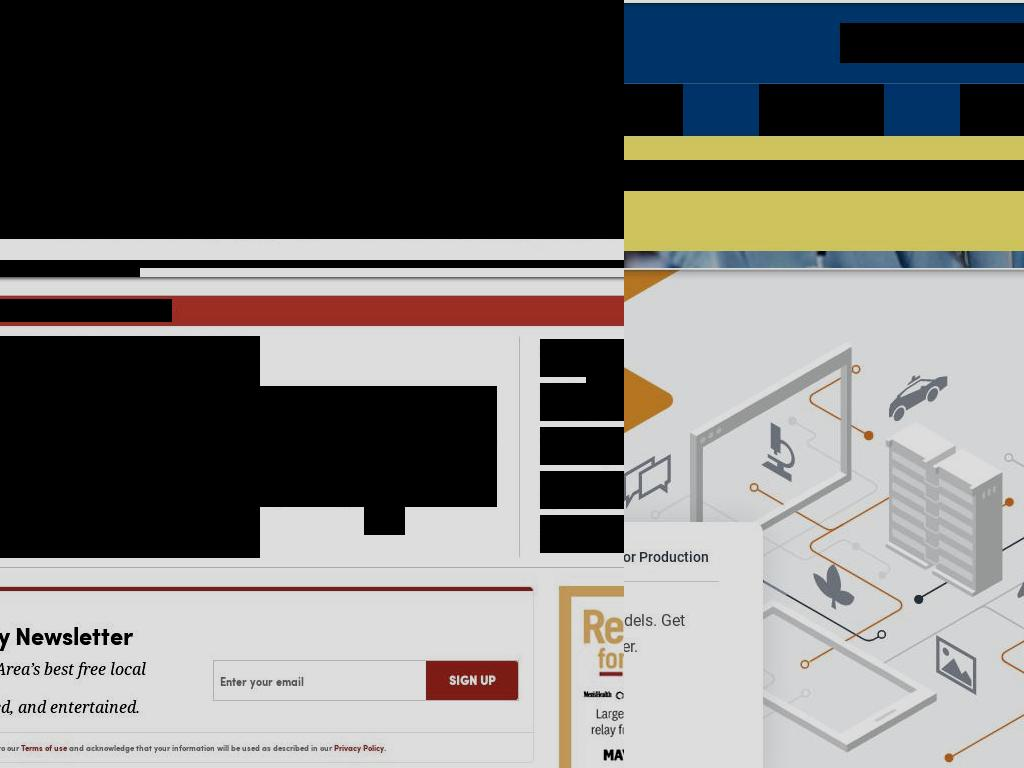button: (0, 336, 260, 558), (22, 133, 382, 219), (422, 133, 624, 219), (759, 84, 884, 136), (425, 661, 518, 701), (960, 84, 1024, 136), (624, 84, 683, 136)
field: (213, 661, 424, 700), (840, 23, 1024, 63)
heading: (0, 621, 534, 651), (624, 160, 1024, 191), (0, 299, 172, 322)
image: (0, 0, 624, 239), (0, 336, 240, 558), (0, 587, 534, 592)
link: (260, 386, 497, 507), (540, 339, 624, 377), (540, 383, 624, 421), (540, 427, 624, 465), (540, 471, 624, 509), (540, 515, 624, 553), (334, 742, 384, 754), (21, 742, 67, 754)
text: (45, 176, 359, 205), (56, 148, 348, 177), (0, 658, 146, 700), (473, 176, 624, 205), (499, 148, 624, 177), (0, 696, 140, 719), (67, 742, 334, 754), (364, 486, 405, 535), (775, 100, 868, 120), (586, 361, 624, 409), (976, 100, 1024, 120), (624, 100, 667, 120)
